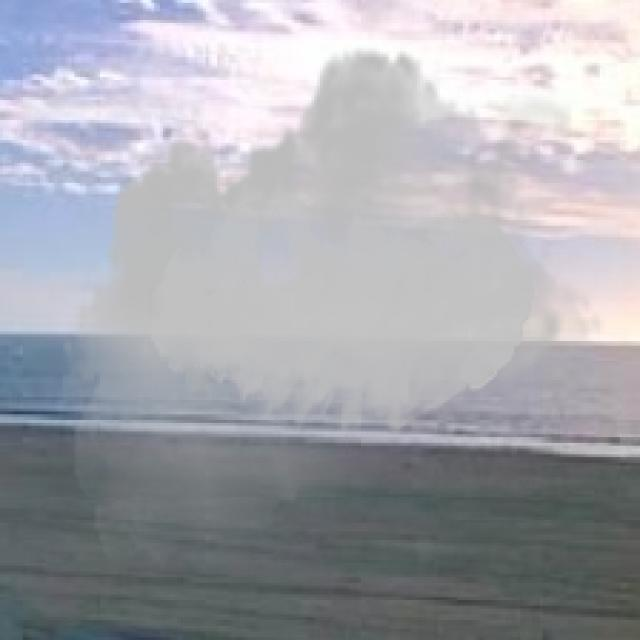Smoke: (63, 26, 606, 592)
